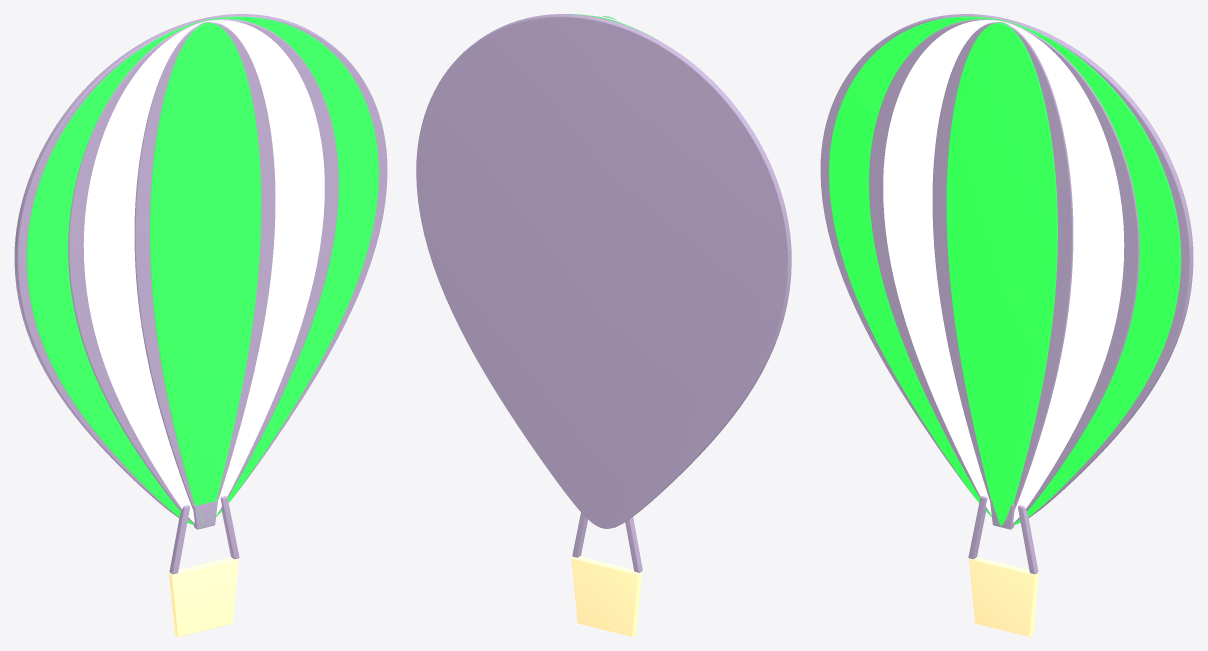
The model's file is airBalloon2.glb.
3 views of the same model, side by side, from view 1: azimuth 30°, elevation 25°; view 2: azimuth 150°, elevation 25°; view 3: azimuth 330°, elevation 25° (orthographic).
Parts seen in each view (by area): view 1: Balloon_06_RedInner.002, Balloon_04_PinkMid.002, Balloon_02_RedOuter.002, Balloon_03_Line1.002, Balloon_05_Line2.002, Balloon_01_Outline.002, Balloon_09_Basket.002, Balloon_08_RopeL.002, Balloon_07_Burner.002, Balloon_08_RopeR.002; view 2: Balloon_01_Outline.002, Balloon_09_Basket.002; view 3: Balloon_06_RedInner.002, Balloon_04_PinkMid.002, Balloon_02_RedOuter.002, Balloon_03_Line1.002, Balloon_05_Line2.002, Balloon_01_Outline.002, Balloon_09_Basket.002, Balloon_08_RopeR.002, Balloon_08_RopeL.002.
Part boxes in pixels (x1,y1,x2,y2): Balloon_06_RedInner.002: (150, 22, 261, 526); Balloon_04_PinkMid.002: (83, 20, 324, 522); Balloon_02_RedOuter.002: (26, 16, 378, 524); Balloon_03_Line1.002: (68, 19, 338, 523); Balloon_05_Line2.002: (134, 22, 275, 509); Balloon_01_Outline.002: (14, 14, 387, 523); Balloon_09_Basket.002: (168, 557, 238, 636); Balloon_08_RopeL.002: (169, 505, 189, 574); Balloon_07_Burner.002: (193, 499, 217, 529); Balloon_08_RopeR.002: (220, 496, 239, 559); Balloon_01_Outline.002: (416, 14, 791, 528); Balloon_09_Basket.002: (571, 556, 641, 636); Balloon_06_RedInner.002: (946, 22, 1057, 526); Balloon_04_PinkMid.002: (883, 20, 1124, 522); Balloon_02_RedOuter.002: (829, 16, 1181, 524); Balloon_03_Line1.002: (869, 19, 1139, 523); Balloon_05_Line2.002: (932, 22, 1073, 509); Balloon_01_Outline.002: (820, 14, 1193, 523); Balloon_09_Basket.002: (969, 557, 1039, 636); Balloon_08_RopeR.002: (1018, 505, 1038, 574); Balloon_08_RopeL.002: (968, 496, 987, 559).
Size of the model in its own units: 6 by 9.4 by 0.2.
